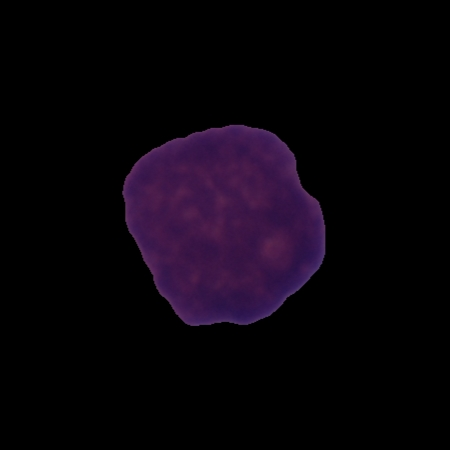ALL: (119, 121, 330, 330)
